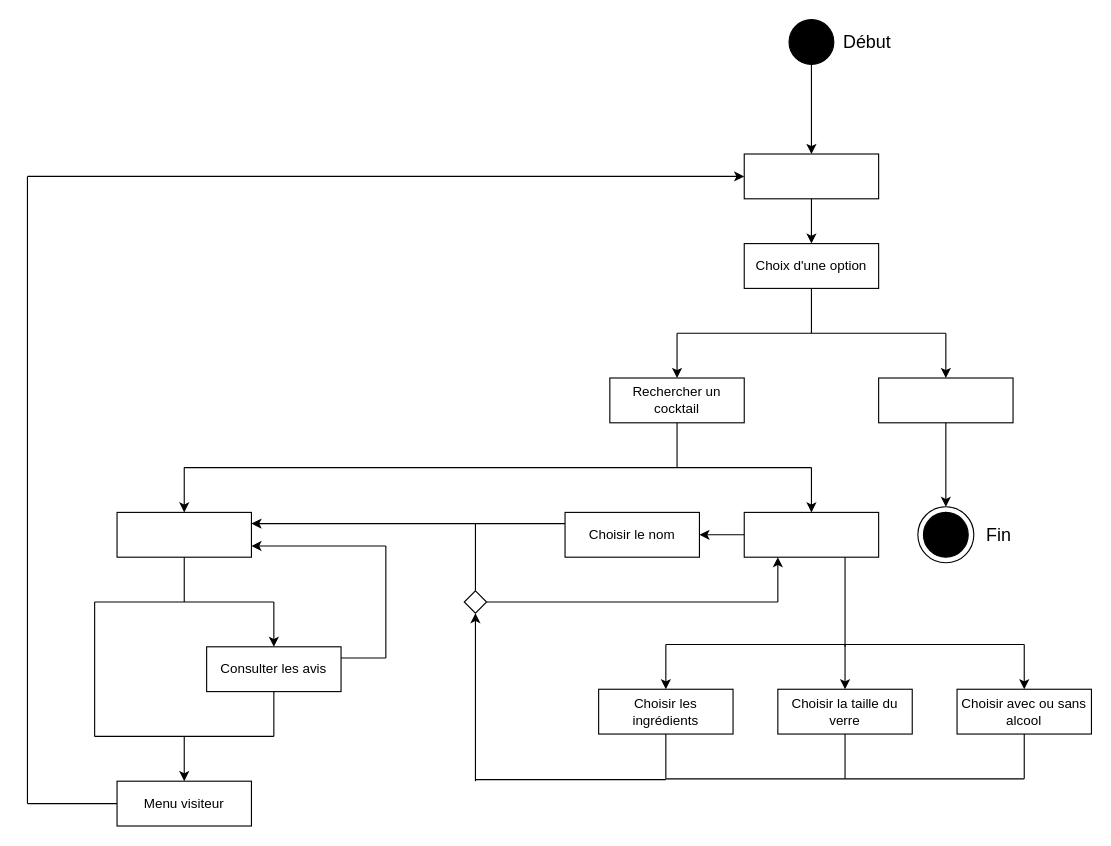
The diagram is 1111 pixels wide and 846 high, and some of its shapes have lost their labels. The centre of each missing label's shape, as x and y in pixels:
"Affichage menu visiteur" goes at pixel 811 176.
"Affiner la recherche" goes at pixel 811 534.
"Consulter le cocktail" goes at pixel 183 534.
"Quitter l'application" goes at pixel 945 400.
